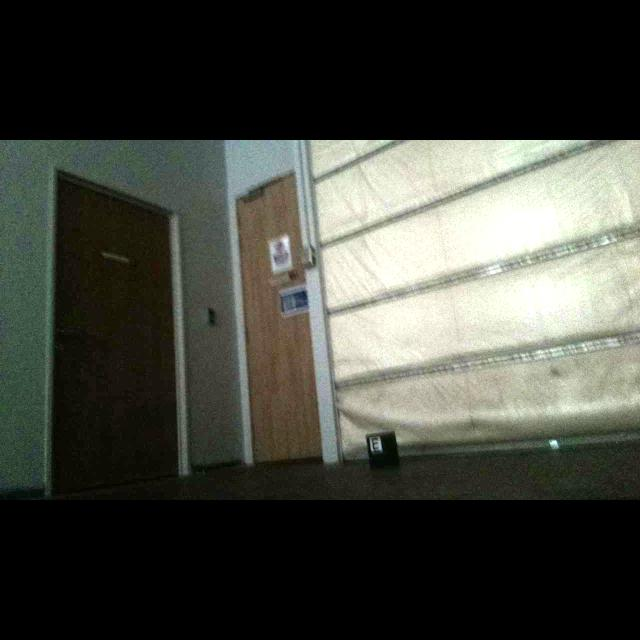E: (371, 437, 380, 449)
